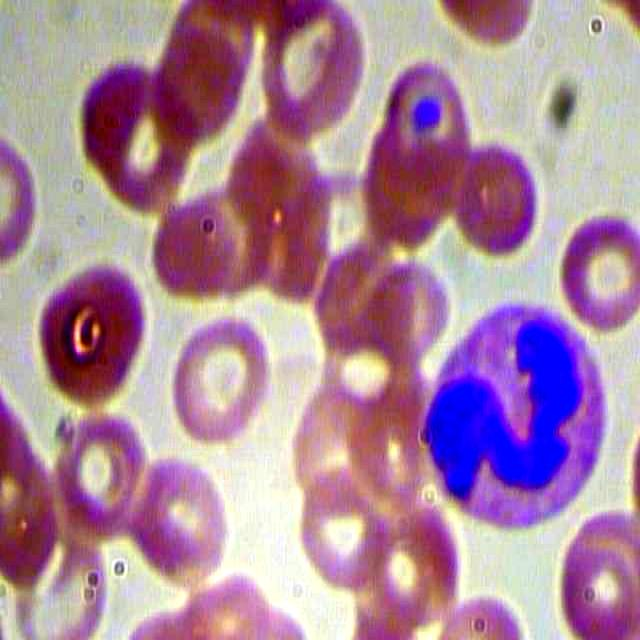RBC: (32, 259, 153, 417), (73, 58, 195, 214), (255, 1, 370, 147), (166, 315, 284, 448), (135, 454, 236, 590), (51, 406, 152, 542), (446, 136, 541, 261), (558, 209, 640, 339), (561, 510, 640, 640), (150, 200, 231, 307)
WBC: (415, 299, 606, 533)
